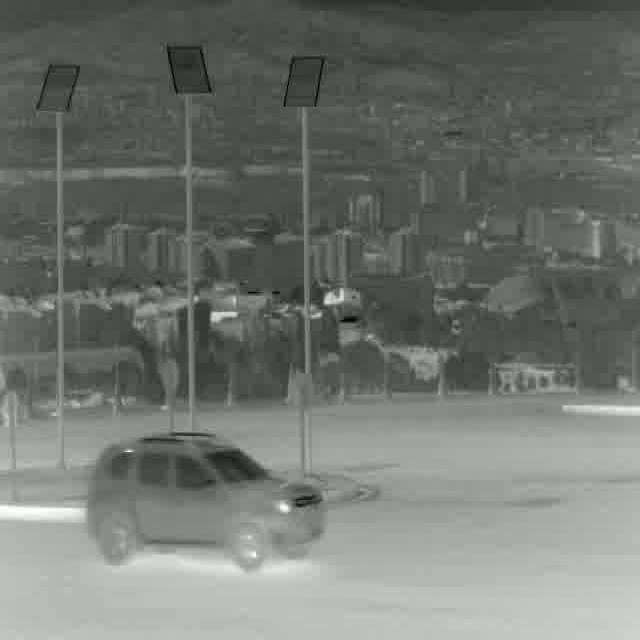Car: (88, 438, 326, 570)
